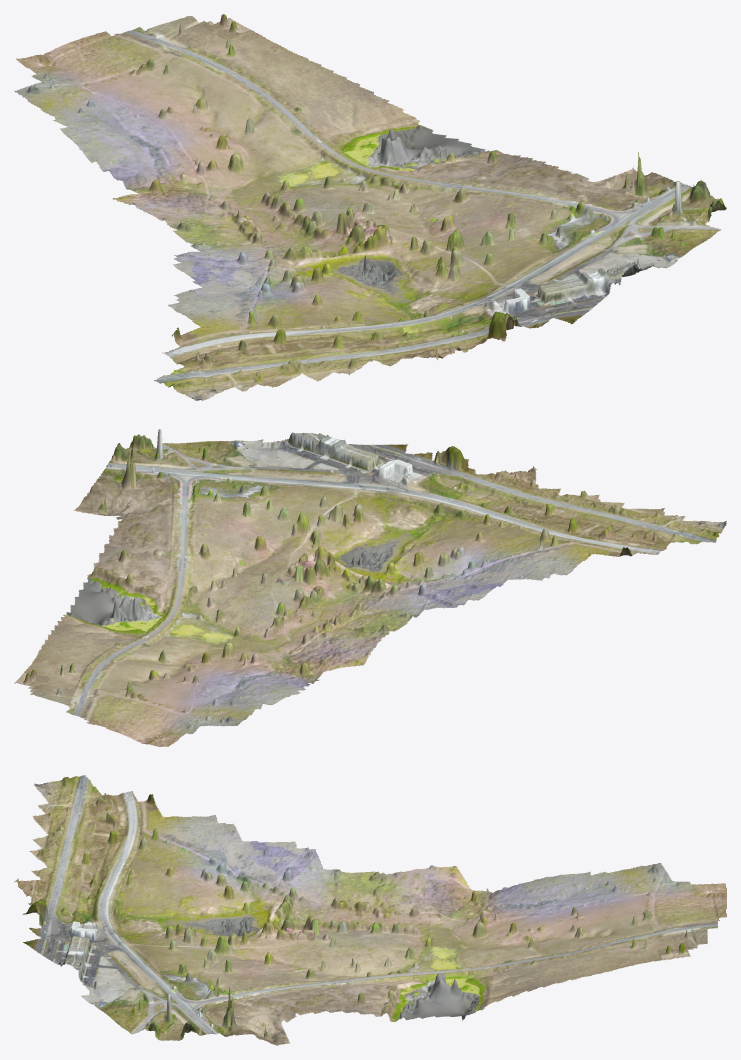
The model's file is terreno_cm.glb.
3 renders of one model, top to bottom at view 1: azimuth 30°, elevation 25°; view 2: azimuth 150°, elevation 25°; view 3: azimuth 270°, elevation 25°, orthographic. The views are drawn at different scales.
Visible parts, largest first — view 1: Terreno_CM; view 2: Terreno_CM; view 3: Terreno_CM.
Part boxes in pixels (x1,y1,x2,y2): Terreno_CM: (14, 14, 726, 400); Terreno_CM: (14, 429, 726, 746); Terreno_CM: (14, 775, 726, 1045).
Bounding box in the file's own units: 824 × 119 × 966.
1 material, 1 textured.
